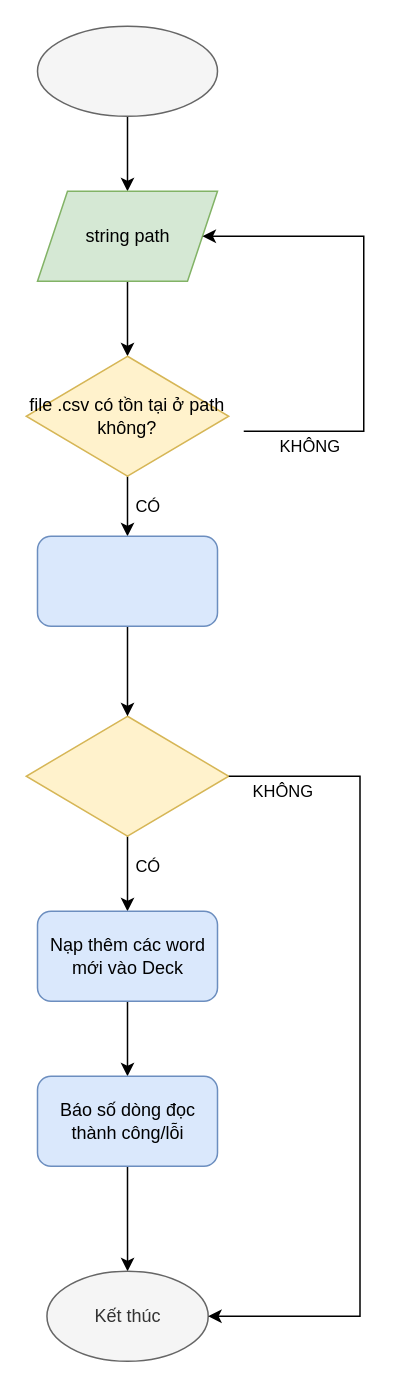
Image size: 402x1388. Some labels were removed from this diagram. Each missing label, with the box of its shape:
Bắt đầu: (36, 25, 218, 116)
Có đúng định dạng không?: (25, 715, 229, 836)
Đọc danh sách từ file .csv: (36, 535, 218, 626)
